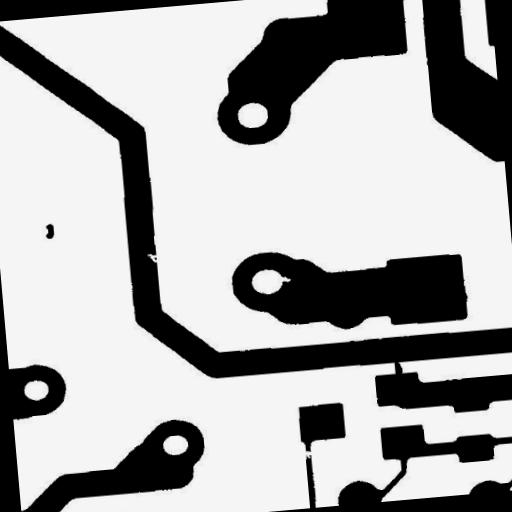copper: (37, 216, 62, 246)
mousebite: (139, 245, 169, 271), (268, 268, 299, 290)
open: (294, 442, 320, 467)
short: (386, 352, 411, 385)
